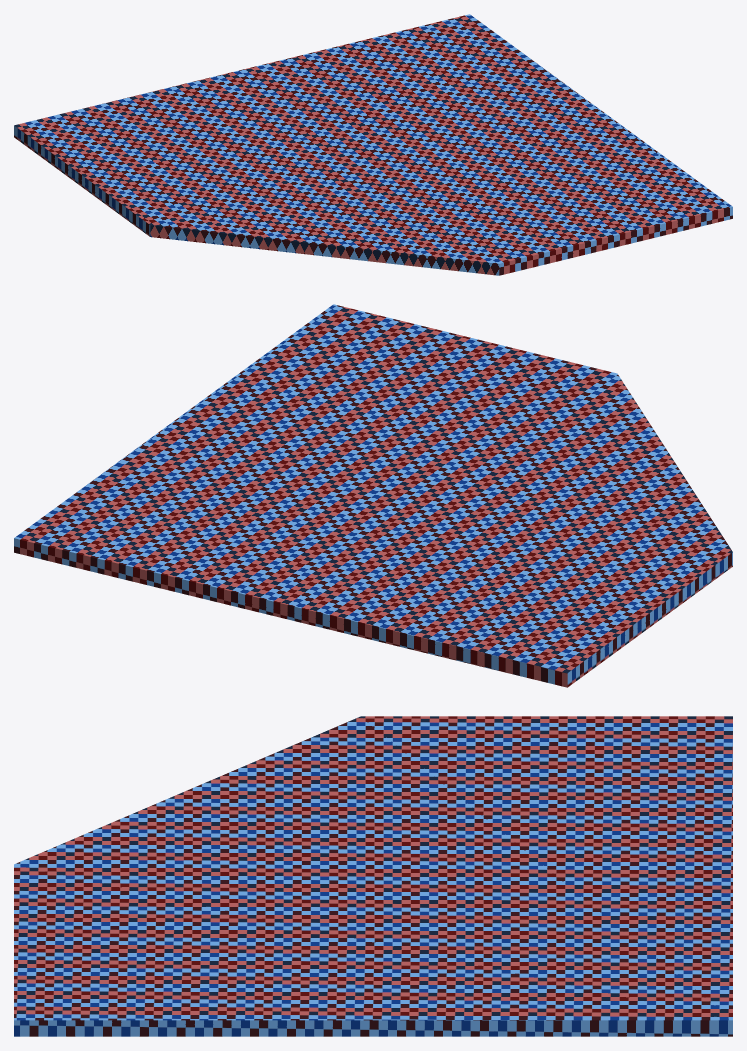
The model's file is Floor_SmalltileAngled_01.fbx.
3 renders of one model, top to bottom at view 1: azimuth 30°, elevation 25°; view 2: azimuth 150°, elevation 25°; view 3: azimuth 270°, elevation 25°, orthographic. The views are drawn at different scales.
Visible parts, largest first — view 1: Floor_SmalltileAngled_01; view 2: Floor_SmalltileAngled_01; view 3: Floor_SmalltileAngled_01.
Part boxes in pixels (box(x1,y1,x2,y2)): Floor_SmalltileAngled_01: box(14, 14, 732, 275); Floor_SmalltileAngled_01: box(14, 304, 732, 687); Floor_SmalltileAngled_01: box(14, 716, 732, 1036).
Bounding box in the file's own units: 200 × 5 × 200.
1 material, 1 textured.
